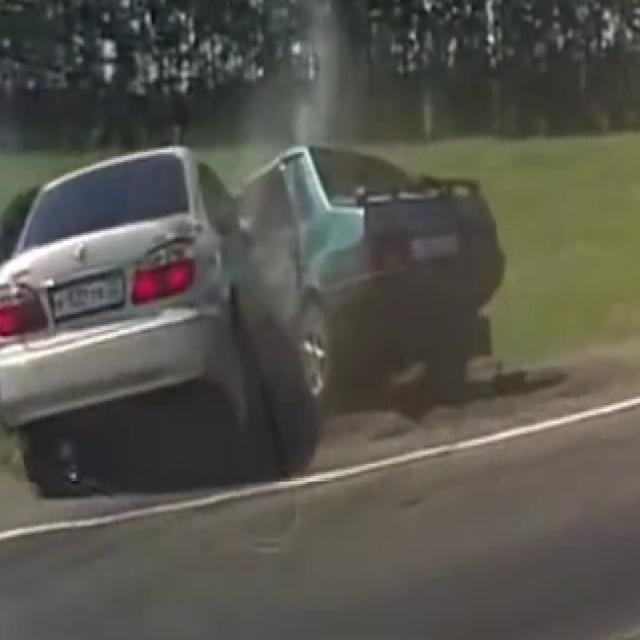accident: (36, 140, 496, 486)
